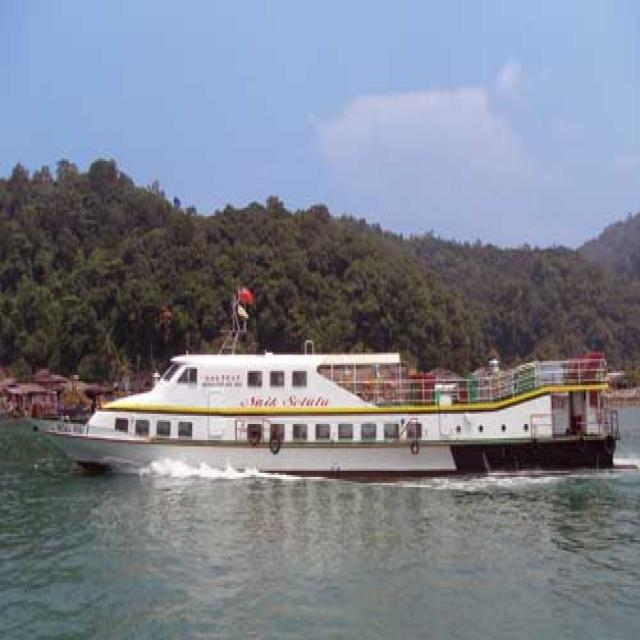passenger ship: (14, 284, 616, 472)
